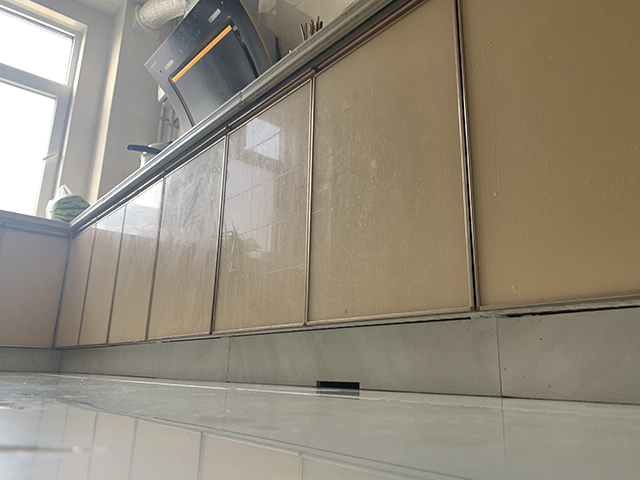cabinet: (304, 1, 640, 406), (142, 47, 301, 384), (60, 176, 139, 373)
